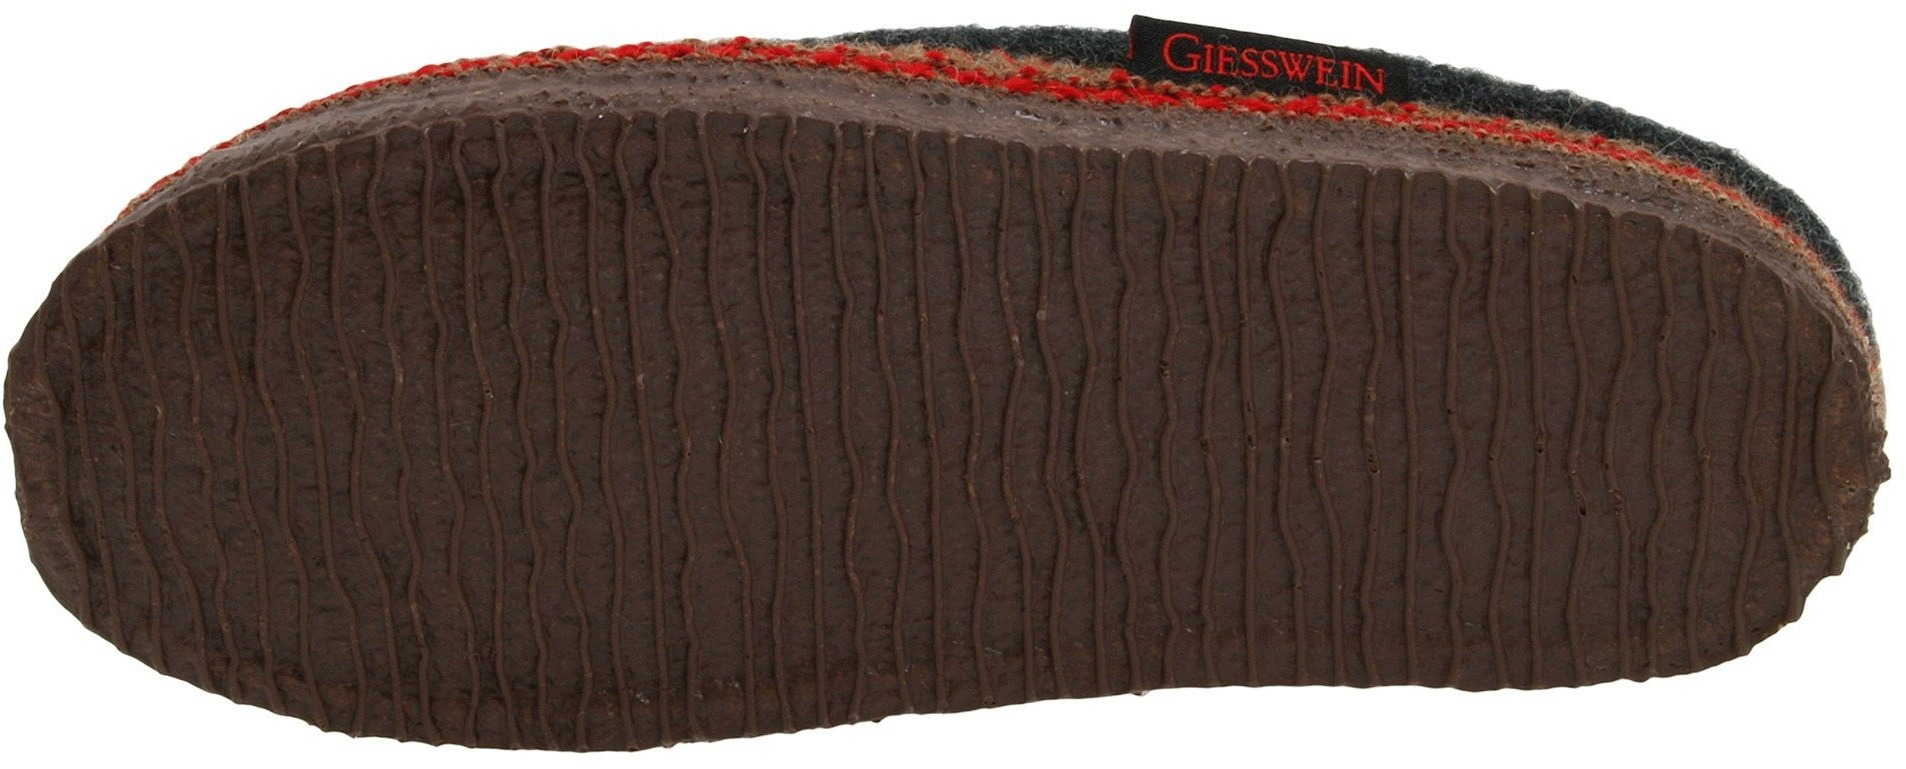line: (299, 173, 857, 632), (1387, 284, 1721, 592)
